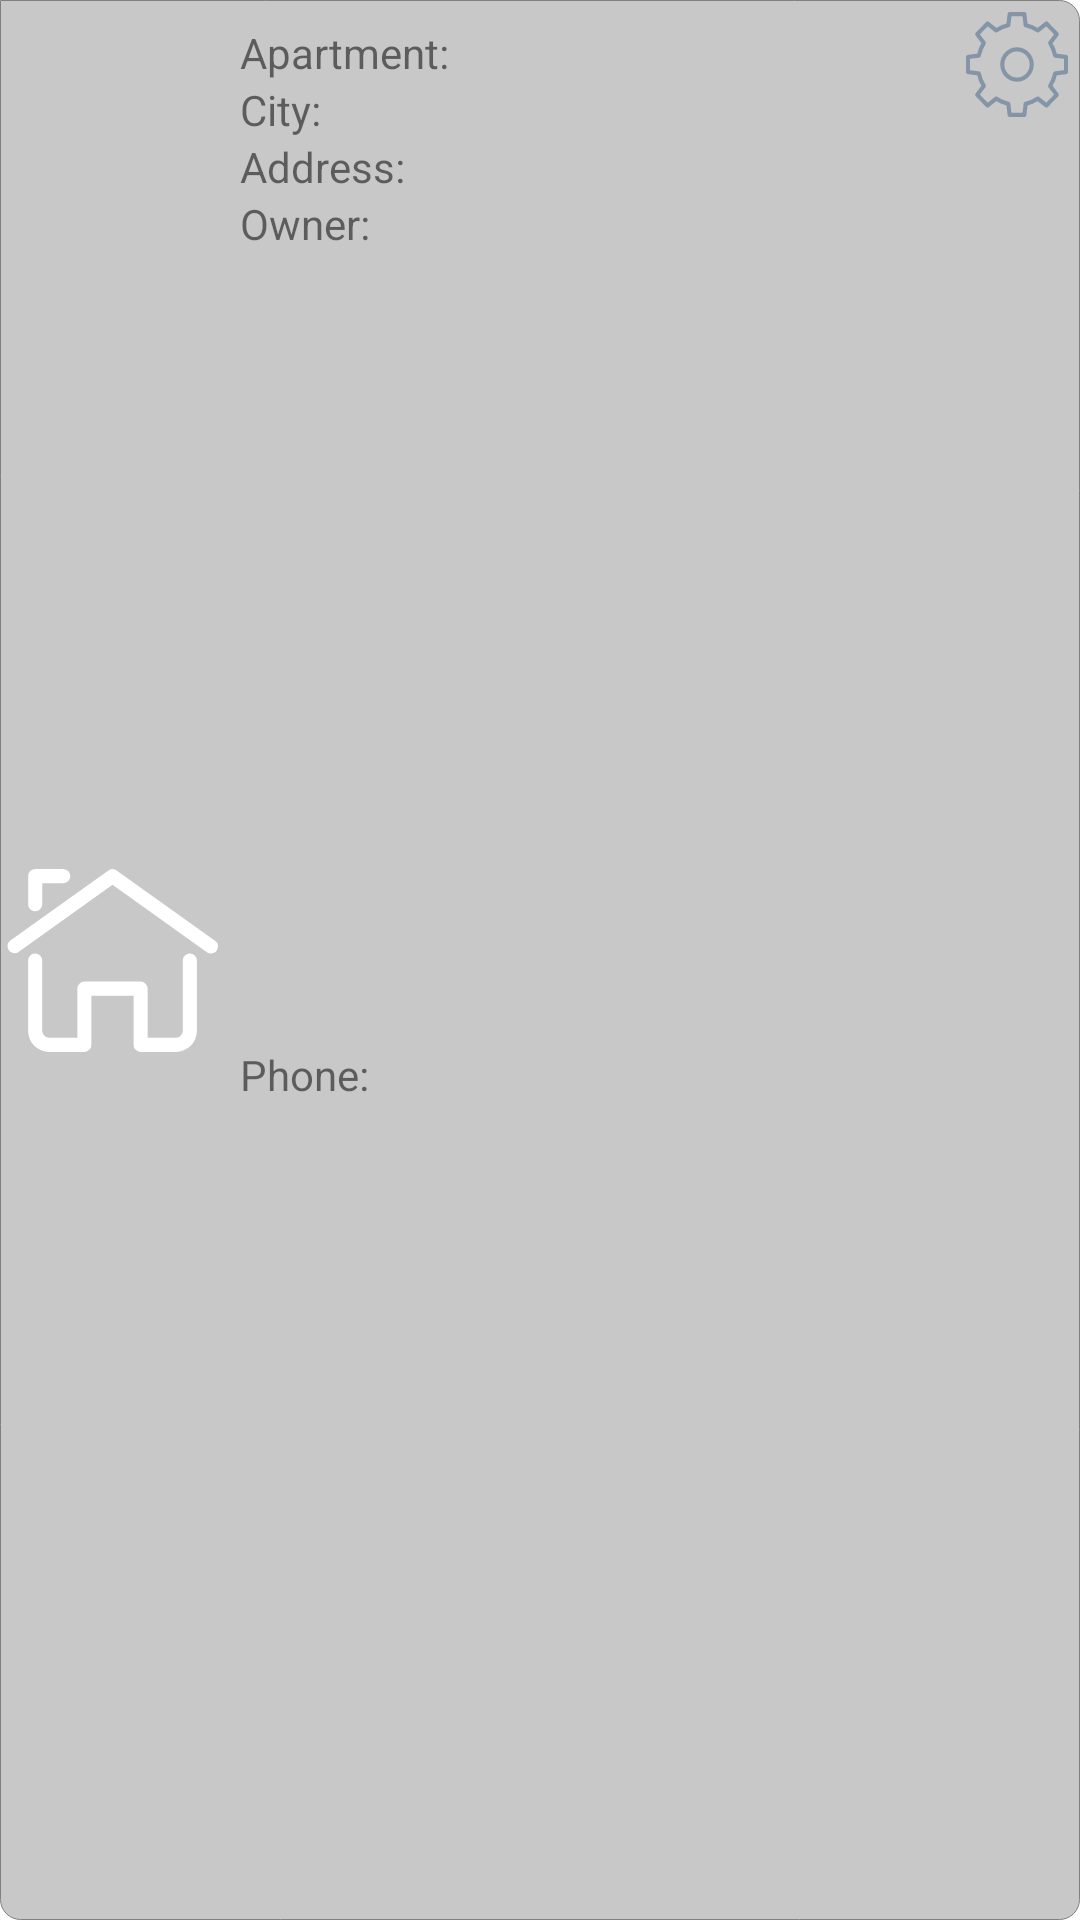

Where icons sit on this 1080x1920 app screen, as {"left": x1, "top": y1, "right": x2, "bottom": y2}:
house: {"left": 8, "top": 869, "right": 218, "bottom": 1052}
settings: {"left": 966, "top": 12, "right": 1068, "bottom": 117}
